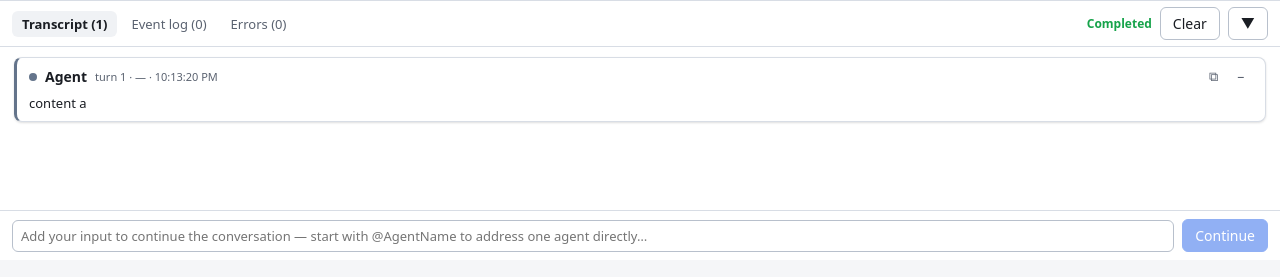
BottomPanel follow-up (continue conversation) › shows the follow-up form once a run has finished, disables Continue until text is entered, and appends the message on submit
Expected: the button "Continue" is disabled, 1182,219 -> 1268,252
Replace the text in the field named "message to continue the conversation" with "Argue against this and give me the facts." at (593, 236), box 12,220 -> 1174,252
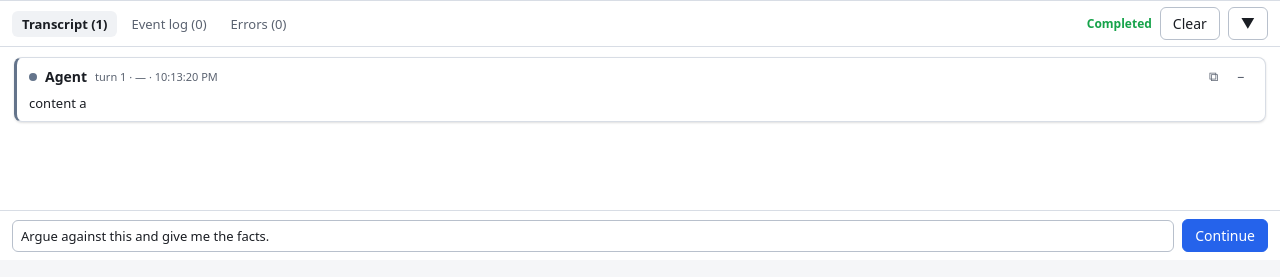
Now the button "Continue" is enabled
Click the button "Continue" at (1225, 236), box 1182,219 -> 1268,252
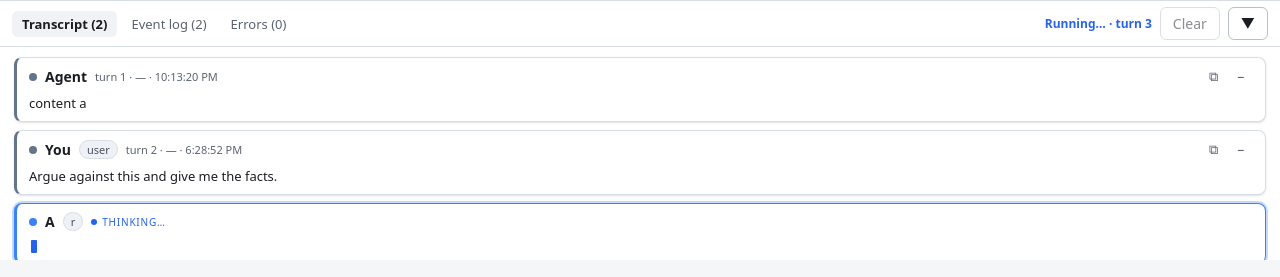
Now the text "Argue against this and give me the facts." is shown, box 29,167 -> 277,185
